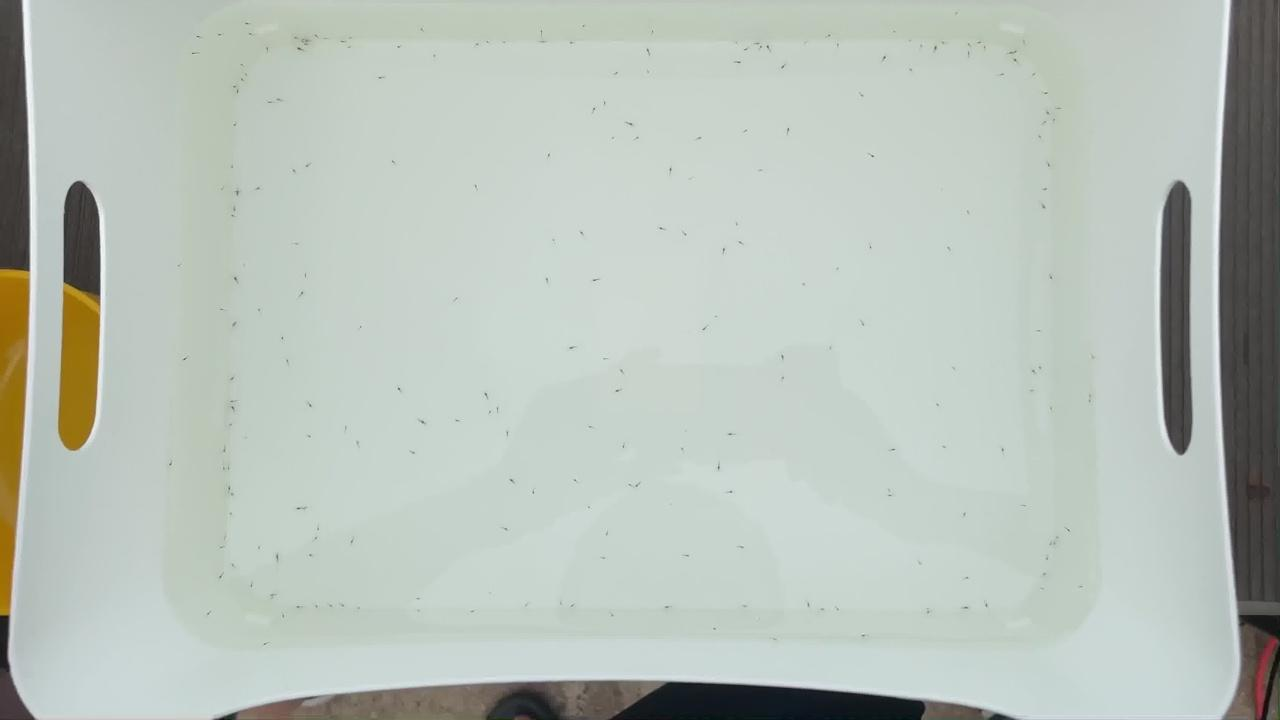shrimp: (1018, 37, 1030, 45), (1009, 48, 1021, 56), (1010, 58, 1022, 66), (998, 73, 1010, 81), (979, 45, 991, 53), (973, 39, 985, 47), (963, 41, 975, 49), (963, 50, 975, 58), (950, 11, 962, 19), (939, 38, 951, 46), (930, 46, 942, 54), (917, 42, 929, 50), (892, 25, 904, 33), (879, 53, 891, 61), (906, 67, 918, 75), (855, 93, 867, 101), (833, 42, 845, 50), (823, 32, 835, 40), (779, 64, 791, 72), (763, 42, 775, 50), (758, 44, 770, 52), (752, 38, 764, 46), (740, 47, 752, 55), (734, 60, 746, 68), (643, 47, 655, 55), (648, 30, 660, 38), (581, 22, 593, 30), (566, 39, 578, 47), (539, 38, 551, 46), (535, 28, 547, 36), (484, 38, 496, 46), (498, 38, 510, 46), (473, 40, 485, 48), (428, 52, 440, 60), (392, 42, 404, 50), (415, 25, 427, 33), (611, 69, 623, 77), (643, 69, 655, 77), (599, 99, 611, 107), (588, 105, 600, 113), (608, 134, 620, 142), (624, 120, 636, 128), (634, 136, 646, 144), (666, 167, 678, 175), (694, 134, 706, 142), (740, 126, 752, 134), (786, 127, 798, 135), (867, 152, 879, 160), (1031, 73, 1043, 81), (1040, 91, 1052, 99), (1057, 104, 1069, 112), (1043, 108, 1055, 116), (1040, 119, 1052, 127), (1035, 133, 1047, 141), (1043, 163, 1055, 171), (1041, 184, 1053, 192), (1040, 204, 1052, 212), (1047, 274, 1059, 282), (963, 209, 975, 217), (945, 247, 957, 255), (866, 245, 878, 253), (833, 267, 845, 275), (800, 282, 812, 290), (736, 240, 748, 248), (731, 223, 743, 231), (720, 247, 732, 255), (680, 231, 692, 239), (656, 226, 668, 234), (577, 231, 589, 239), (543, 152, 555, 160), (470, 182, 482, 190), (388, 159, 400, 167), (590, 277, 602, 285), (549, 236, 561, 244), (542, 277, 554, 285), (450, 297, 462, 305), (416, 418, 428, 426), (408, 449, 420, 457), (453, 418, 465, 426), (482, 392, 494, 400), (495, 405, 507, 413), (484, 409, 496, 417), (501, 431, 513, 439), (507, 476, 519, 484), (501, 523, 513, 531), (526, 489, 538, 497), (571, 477, 583, 485), (585, 424, 597, 432), (612, 388, 624, 396), (617, 368, 629, 376), (599, 355, 611, 363), (566, 345, 578, 353), (697, 328, 709, 336), (710, 312, 722, 320), (777, 352, 789, 360), (777, 375, 789, 383), (824, 347, 836, 355), (858, 318, 870, 326), (948, 363, 960, 371), (1032, 328, 1044, 336), (1088, 354, 1100, 362), (1084, 396, 1096, 404), (1034, 364, 1046, 372), (1028, 367, 1040, 375), (1028, 387, 1040, 395), (1046, 405, 1058, 413), (999, 446, 1011, 454), (938, 444, 950, 452), (931, 402, 943, 410), (887, 446, 899, 454), (885, 491, 897, 499), (883, 488, 895, 496), (961, 510, 973, 518), (1063, 528, 1075, 536), (1052, 533, 1064, 541), (1050, 542, 1062, 550), (1045, 542, 1057, 550), (1043, 554, 1055, 562), (1042, 572, 1054, 580), (1076, 582, 1088, 590), (981, 603, 993, 611), (960, 604, 972, 612), (962, 574, 974, 582), (912, 558, 924, 566), (922, 608, 934, 616), (859, 632, 871, 640), (833, 604, 845, 612), (819, 606, 831, 614), (803, 601, 815, 609), (772, 635, 784, 643), (738, 602, 750, 610), (710, 625, 722, 633), (737, 545, 749, 553), (727, 489, 739, 497), (714, 466, 726, 474), (724, 433, 736, 441), (679, 444, 691, 452), (619, 443, 631, 451), (633, 481, 645, 489), (625, 482, 637, 490), (584, 503, 596, 511), (601, 529, 613, 537), (598, 556, 610, 564), (681, 552, 693, 560), (663, 604, 675, 612), (607, 613, 619, 621), (569, 603, 581, 611), (556, 600, 568, 608), (523, 601, 535, 609), (468, 609, 480, 617), (414, 596, 426, 604), (354, 606, 366, 614), (338, 602, 350, 610), (325, 602, 337, 610), (311, 605, 323, 613), (295, 604, 307, 612), (278, 614, 290, 622), (259, 641, 271, 649), (202, 610, 214, 618), (268, 592, 280, 600), (246, 581, 258, 589), (216, 573, 228, 581), (228, 562, 240, 570), (217, 544, 229, 552), (219, 534, 231, 542), (224, 510, 236, 518), (255, 544, 267, 552), (271, 556, 283, 564), (304, 553, 316, 561), (311, 535, 323, 543), (345, 538, 357, 546), (314, 524, 326, 532), (293, 507, 305, 515), (228, 492, 240, 500), (224, 485, 236, 493), (224, 465, 236, 473), (217, 465, 229, 473), (219, 446, 231, 454), (165, 460, 177, 468), (227, 421, 239, 429), (228, 404, 240, 412), (229, 397, 241, 405), (227, 376, 239, 384), (181, 355, 193, 363), (230, 323, 242, 331), (217, 307, 229, 315), (230, 275, 242, 283), (254, 306, 266, 314), (278, 335, 290, 343), (283, 357, 295, 365), (304, 403, 316, 411), (303, 435, 315, 443), (340, 424, 352, 432), (353, 440, 365, 448), (394, 388, 406, 396), (354, 323, 366, 331), (296, 291, 308, 299), (301, 272, 313, 280), (173, 262, 185, 270), (229, 213, 241, 221), (230, 207, 242, 215), (232, 189, 244, 197), (218, 186, 230, 194), (227, 162, 239, 170), (230, 121, 242, 129), (254, 183, 266, 191), (292, 241, 304, 249), (288, 167, 300, 175), (302, 161, 314, 169), (264, 97, 276, 105), (274, 96, 286, 104), (377, 75, 389, 83), (345, 45, 357, 53), (346, 33, 358, 41), (339, 38, 351, 46), (321, 35, 333, 43), (310, 32, 322, 40), (303, 37, 315, 45), (301, 41, 313, 49), (298, 36, 310, 44), (296, 46, 308, 54), (290, 34, 302, 42), (262, 46, 274, 54), (245, 30, 257, 38), (241, 19, 253, 27), (215, 31, 227, 39), (194, 33, 206, 41), (190, 49, 202, 57), (236, 61, 248, 69), (242, 70, 254, 78), (238, 76, 250, 84), (229, 83, 241, 91), (233, 88, 245, 96)
